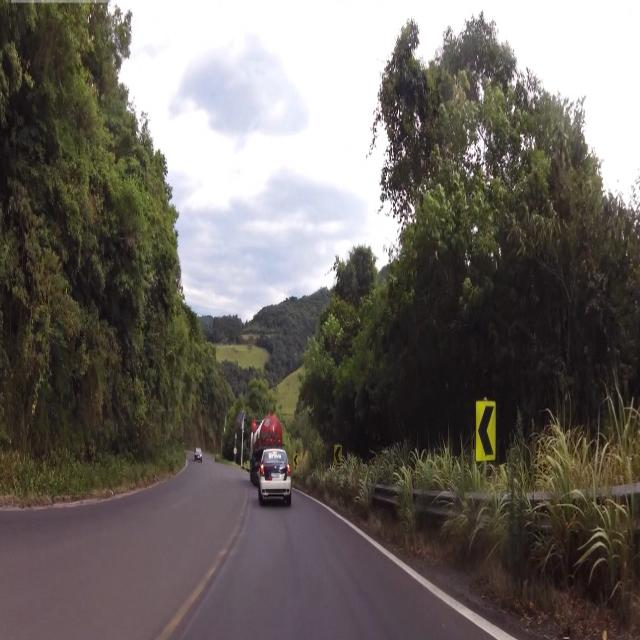Del: (472, 397, 496, 468)
